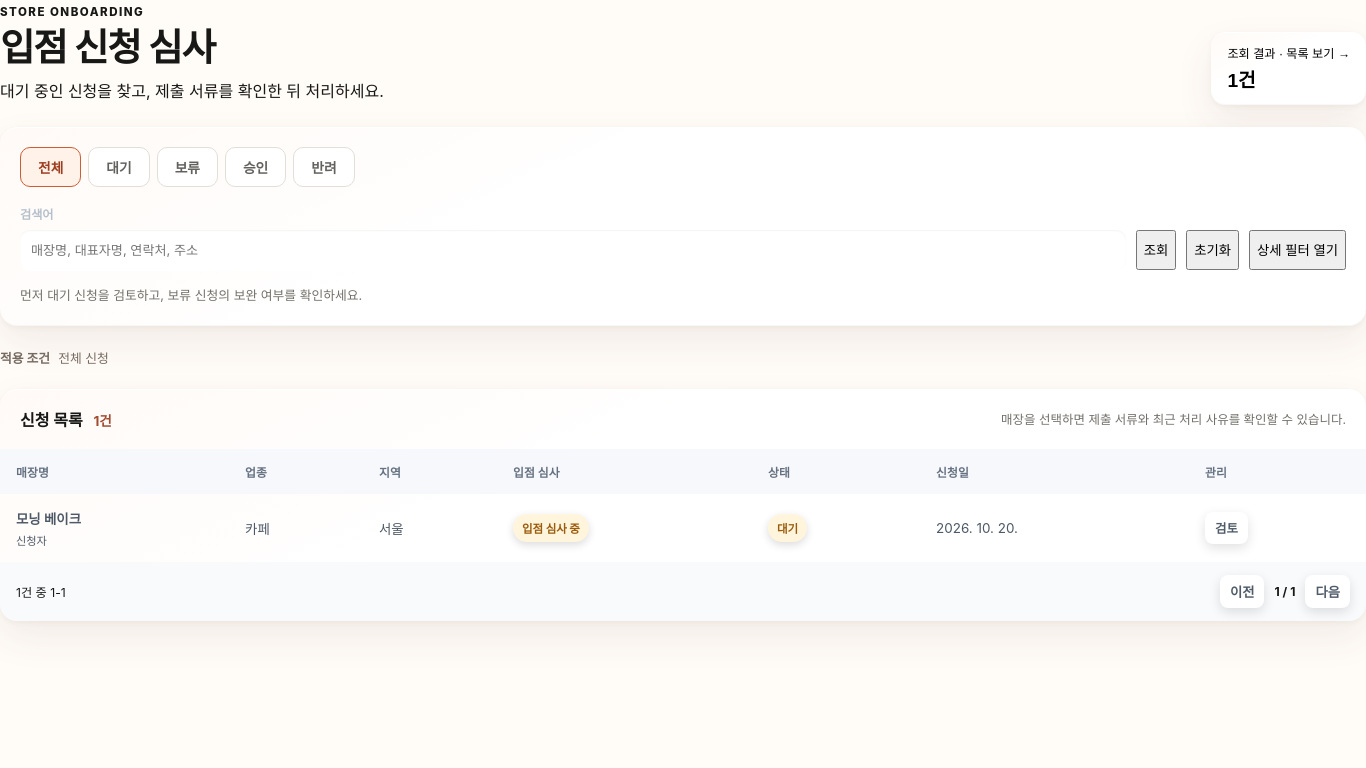
Test: does not reopen a drawer closed before its detail request finishes
Click the button "검토" at [1226, 528], box 1205,512 -> 1248,544
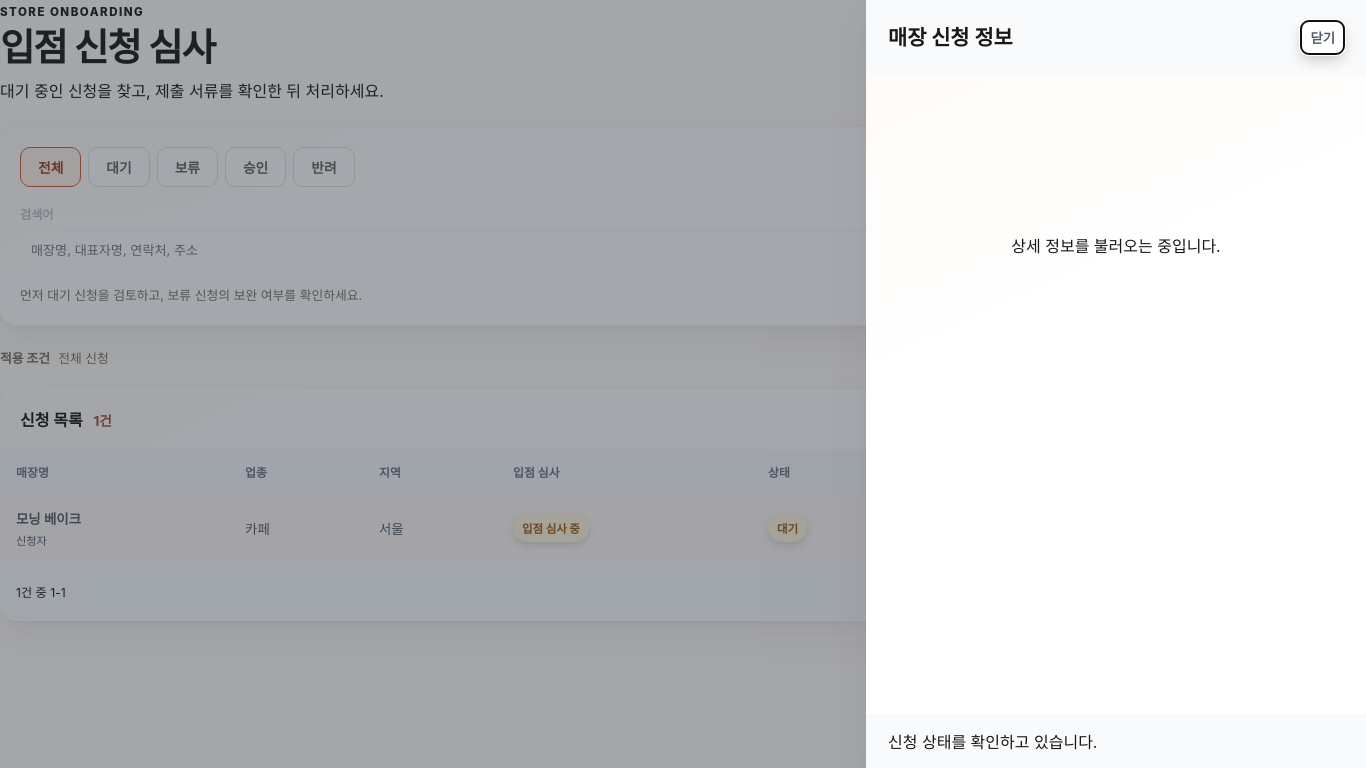
Click the button "닫기" at [1323, 38], box 1302,21 -> 1344,54
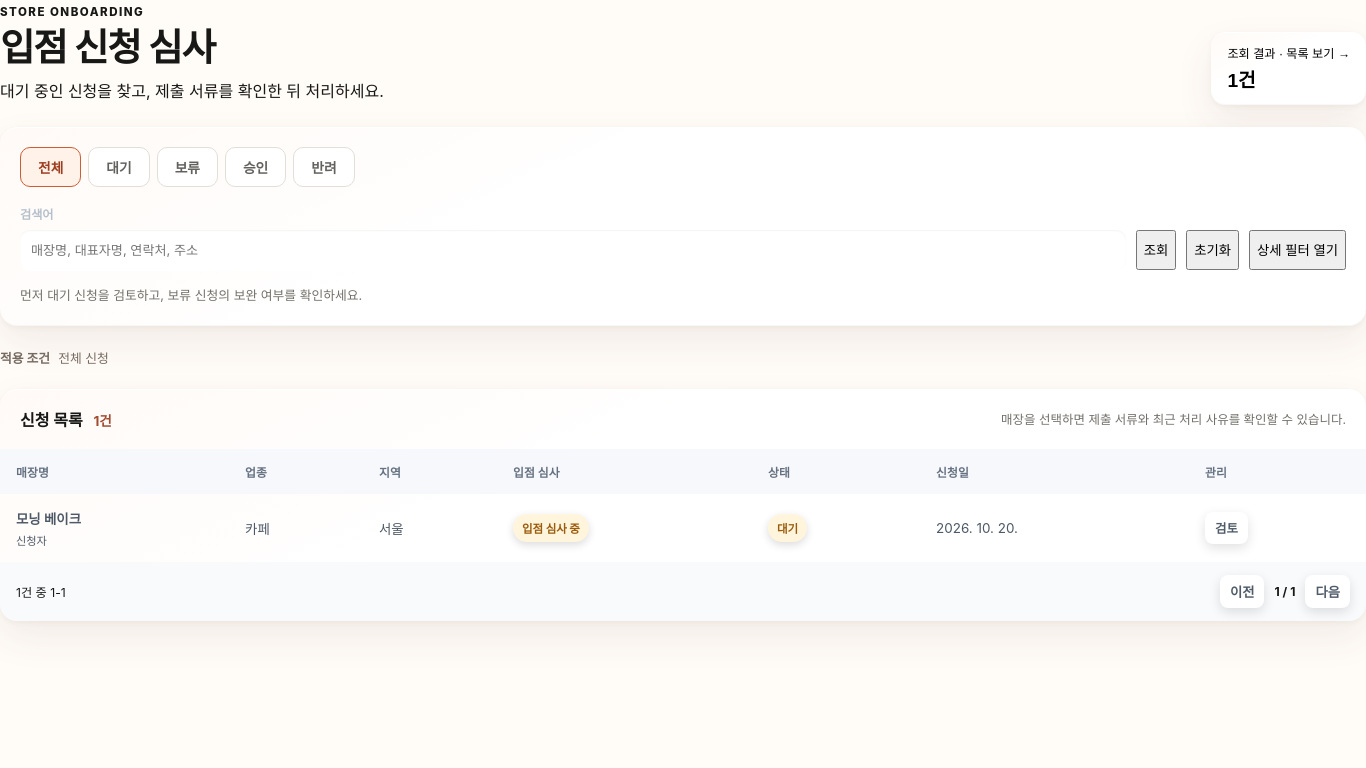
Result: the dialog is gone
